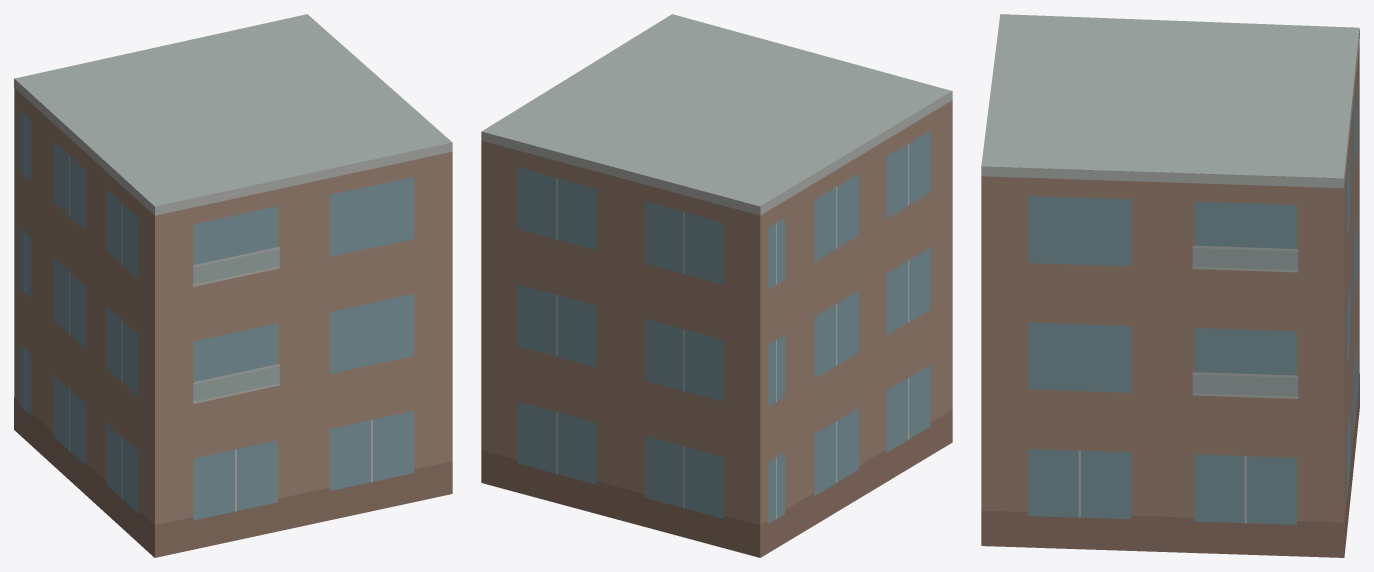
The model's file is survey-upis-32517082.glb.
3 views of the same model, side by side, from view 1: azimuth 30°, elevation 25°; view 2: azimuth 150°, elevation 25°; view 3: azimuth 270°, elevation 25° (orthographic). The views are drawn at different scales.
Parts seen in each view (by area): view 1: survey-upis-32517082.tmp; view 2: survey-upis-32517082.tmp; view 3: survey-upis-32517082.tmp.
Part boxes in pixels (left/top/right/bottom): survey-upis-32517082.tmp: left=14, top=14, right=452, bottom=557; survey-upis-32517082.tmp: left=481, top=14, right=952, bottom=557; survey-upis-32517082.tmp: left=981, top=14, right=1359, bottom=557.
Bounding box in the file's own units: 8.74 × 9.4 × 8.51.
